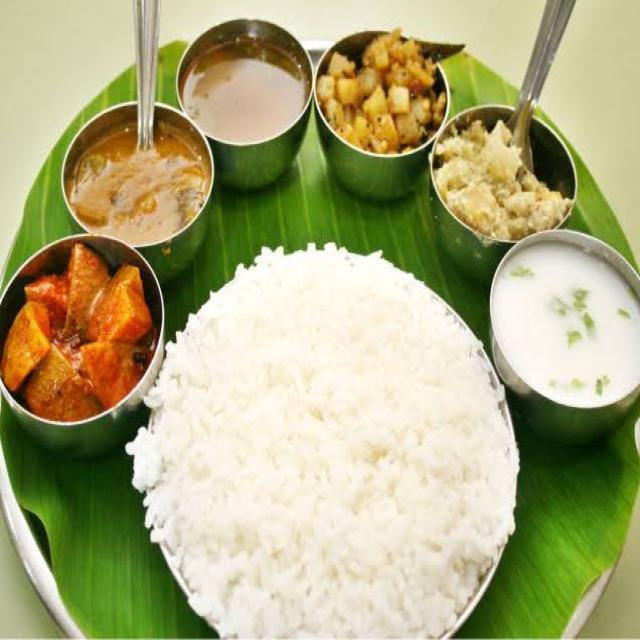veg meals: (4, 6, 640, 640)
